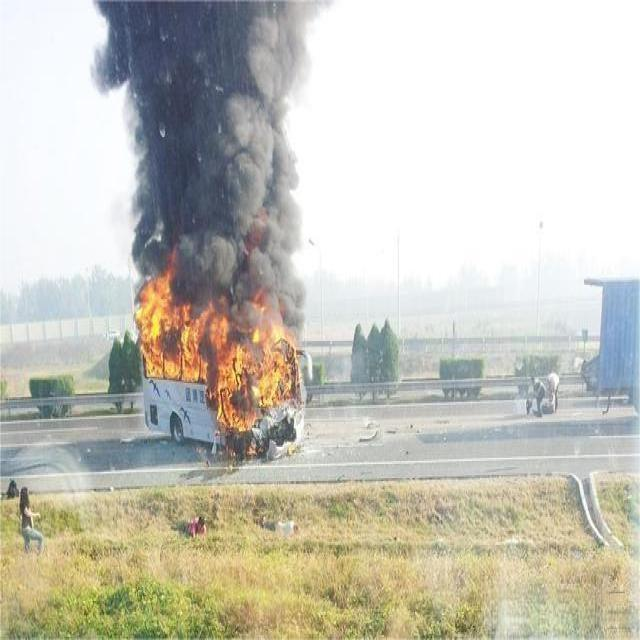Fire: (134, 277, 296, 427)
Smoke: (87, 0, 316, 307)
